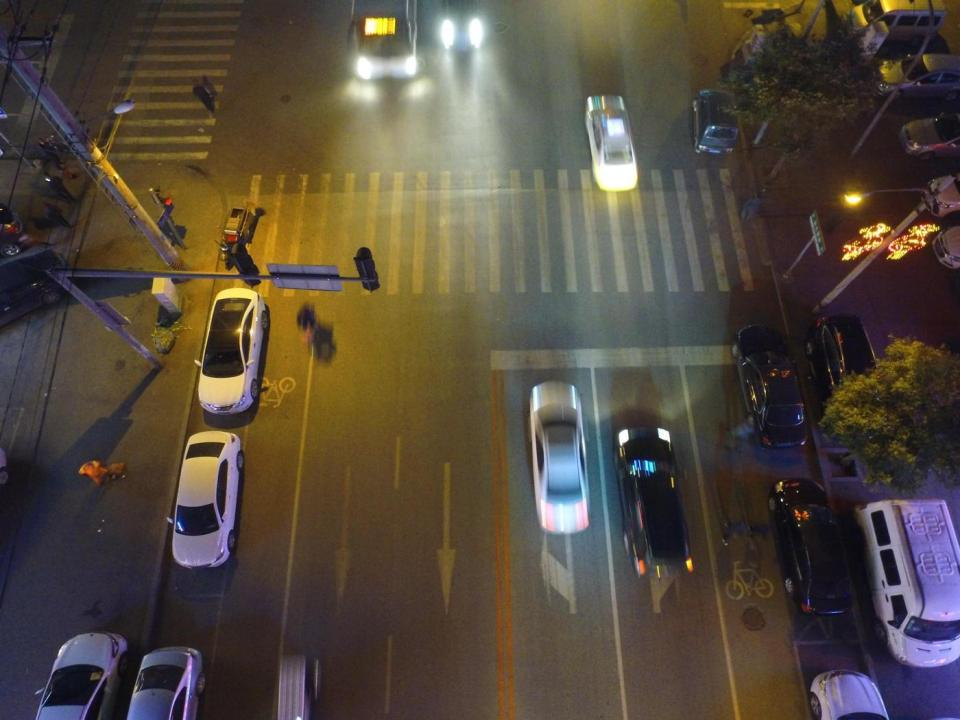bus: (349, 0, 419, 78)
car: (771, 477, 854, 616), (614, 427, 692, 574), (808, 312, 891, 438), (169, 430, 242, 572), (527, 381, 591, 534), (733, 326, 811, 451), (198, 287, 270, 415), (29, 630, 127, 720), (581, 94, 640, 194), (0, 249, 71, 328), (125, 646, 202, 718), (809, 667, 891, 720), (871, 53, 960, 97), (695, 88, 740, 159), (898, 114, 960, 160), (445, 0, 487, 48), (922, 172, 959, 218), (933, 222, 958, 270)
van: (856, 496, 958, 668), (848, 0, 946, 43)
